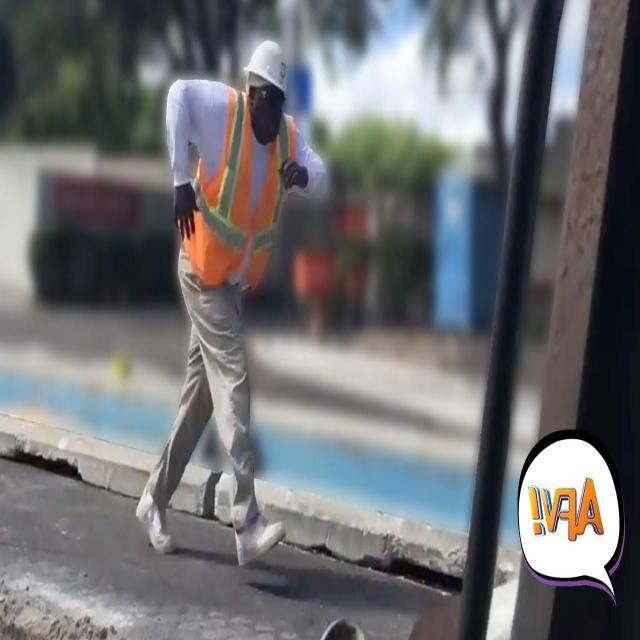Reflective-Jacket: (160, 90, 308, 310)
Safety-Helmet: (239, 30, 293, 108)
